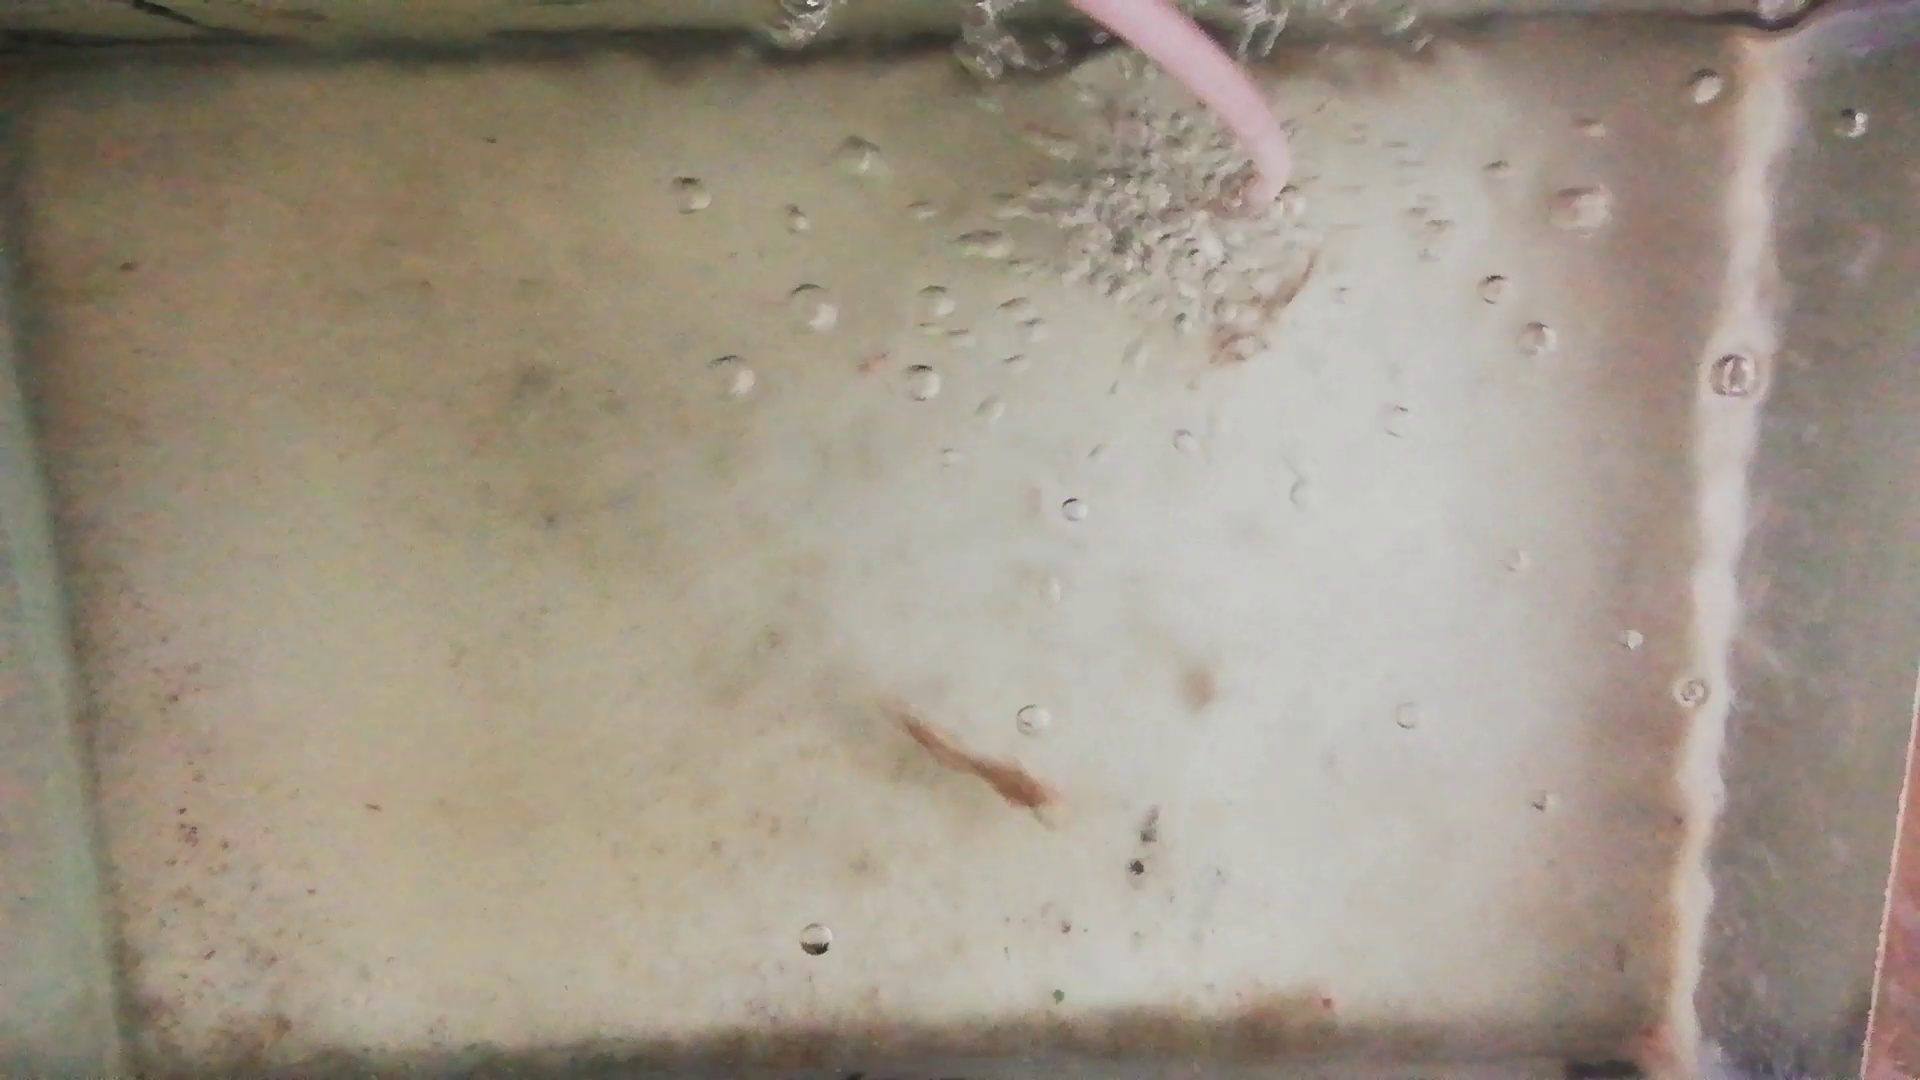fish: (884, 709, 1060, 818), (1213, 248, 1320, 365)
